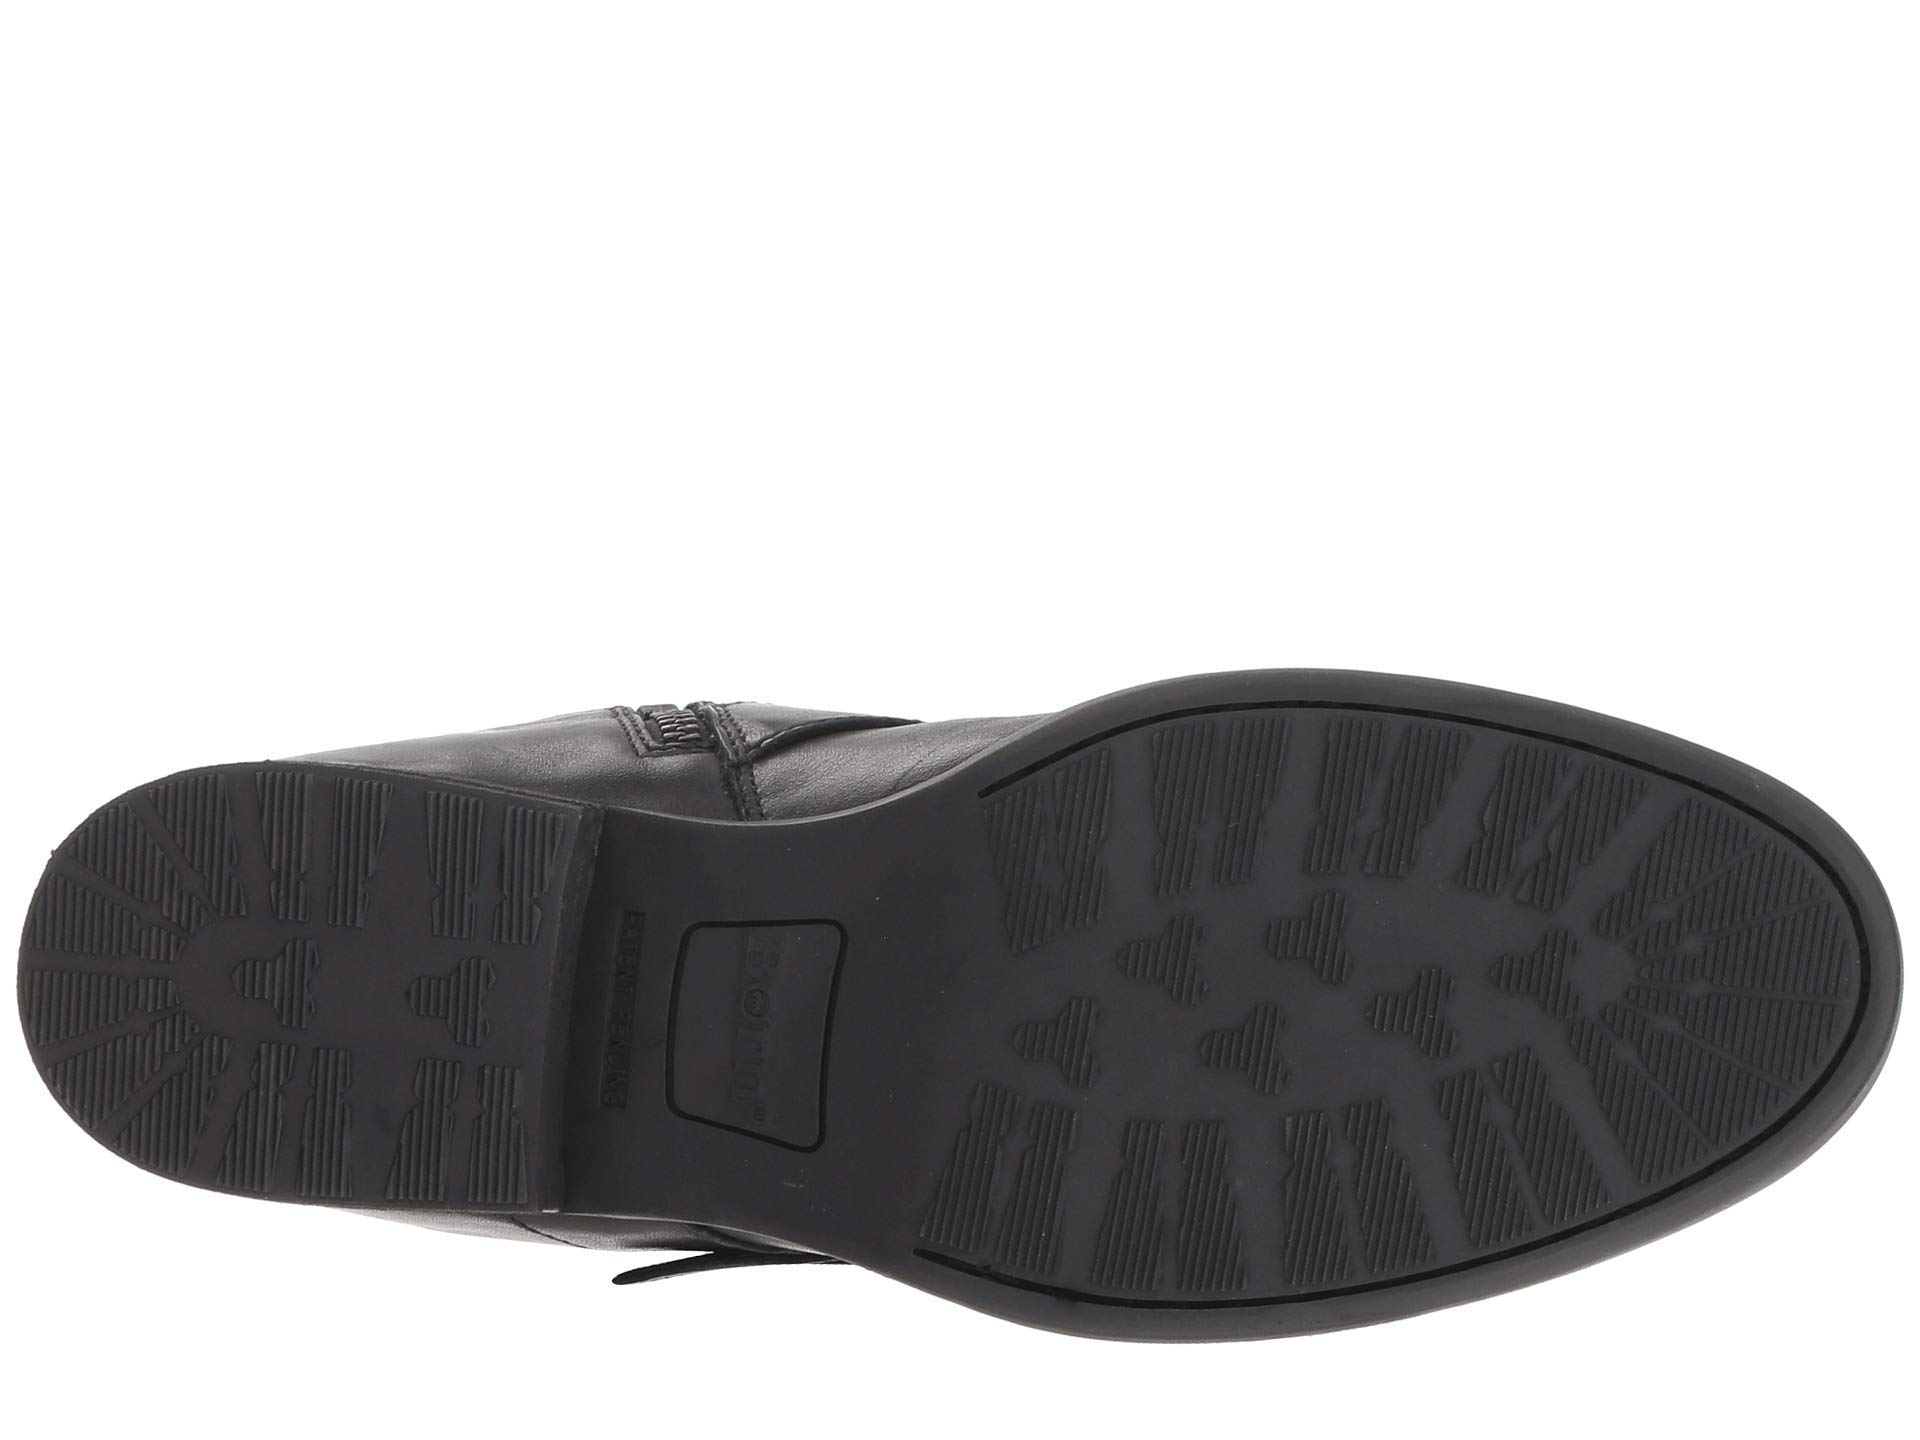bowtie: (943, 714, 1503, 1289), (35, 777, 387, 1175), (1516, 756, 1852, 1137), (407, 784, 568, 961), (410, 1041, 540, 1210)
line: (35, 777, 387, 1175), (1516, 756, 1852, 1137), (407, 784, 568, 961), (410, 1041, 540, 1210)
star: (943, 714, 1503, 1289), (35, 777, 387, 1175)
